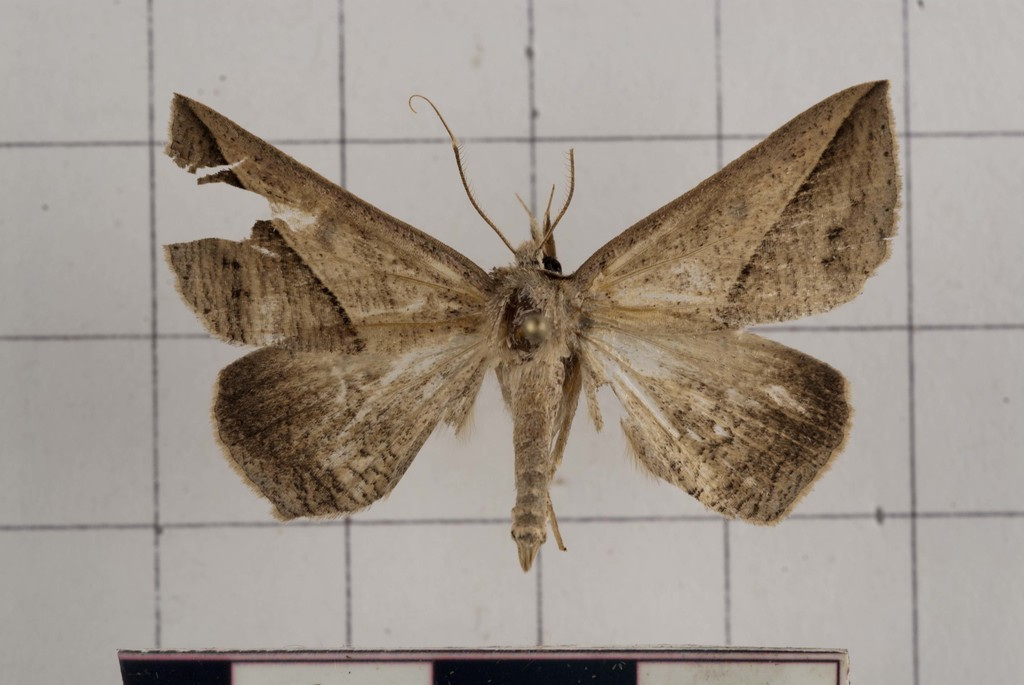Butterfly: (134, 67, 957, 600)
